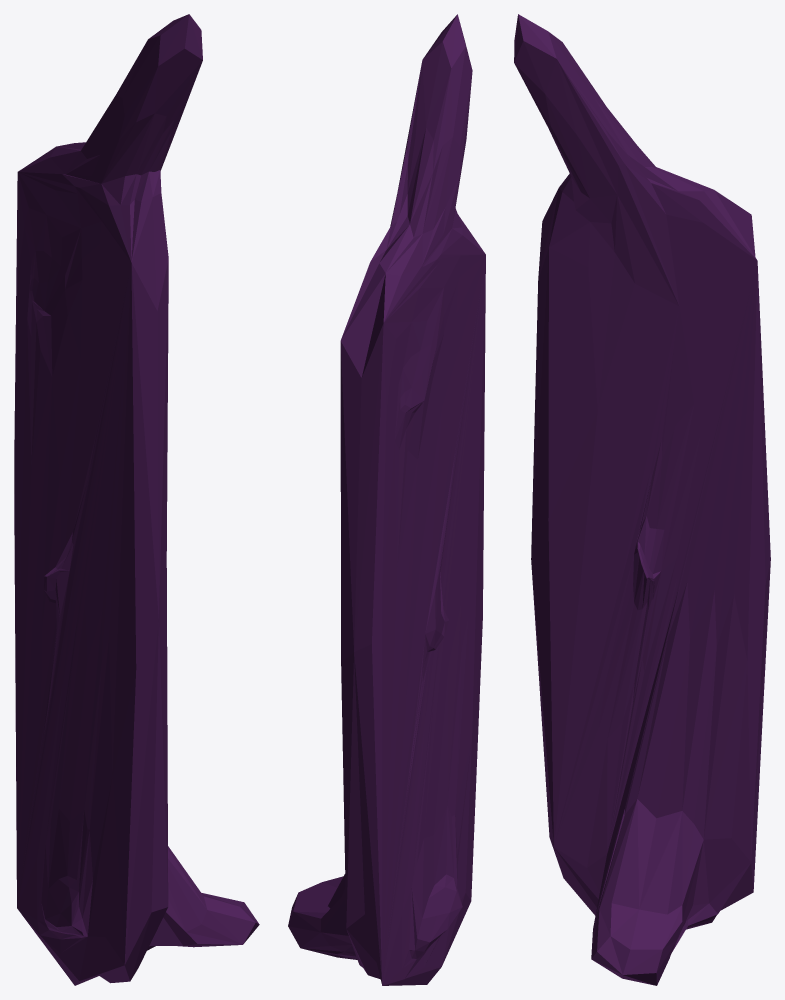
3 renders of one model, left to right at view 1: azimuth 30°, elevation 25°; view 2: azimuth 150°, elevation 25°; view 3: azimuth 270°, elevation 25°, orthographic. The views are drawn at different scales.
Visible parts, largest first — view 1: 544_Cube.2195; view 2: 544_Cube.2195; view 3: 544_Cube.2195.
Boxes of the visible parts, x1,y1,x2,y2 form: 544_Cube.2195: (14, 14, 259, 985); 544_Cube.2195: (288, 14, 485, 985); 544_Cube.2195: (514, 14, 770, 985).
Size of the model in its own units: 3.01 by 14.97 by 3.73.
